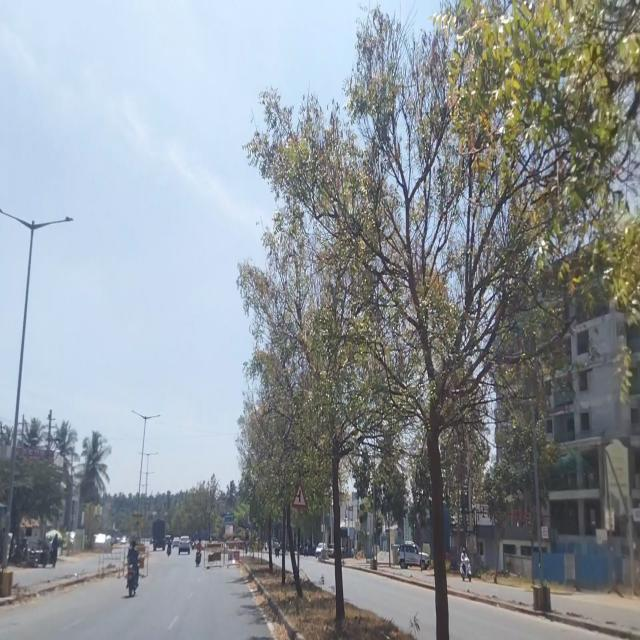bien_cam: (292, 481, 308, 509)
